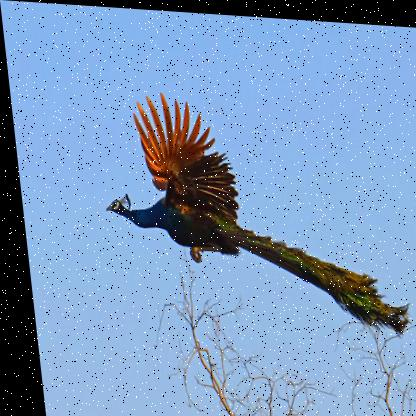Burung: (90, 87, 406, 329)
